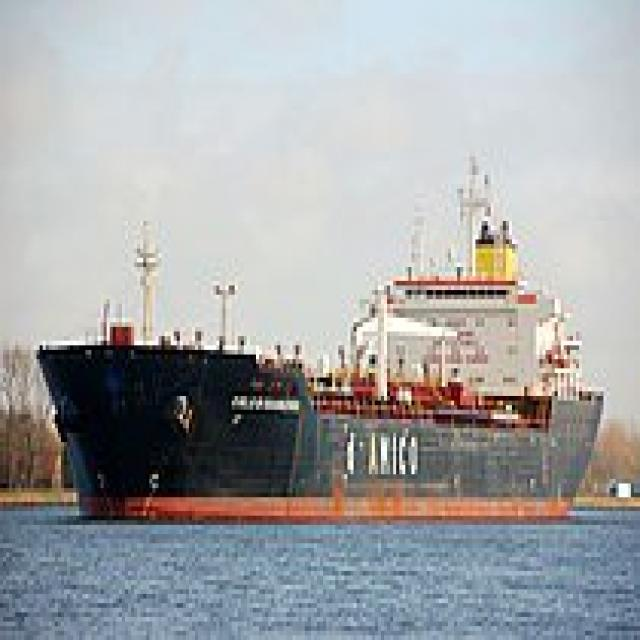Tanker: (31, 148, 600, 520)
